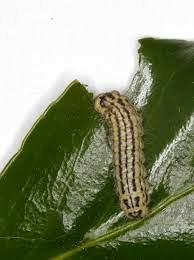Caterpillar: (94, 91, 156, 218)
